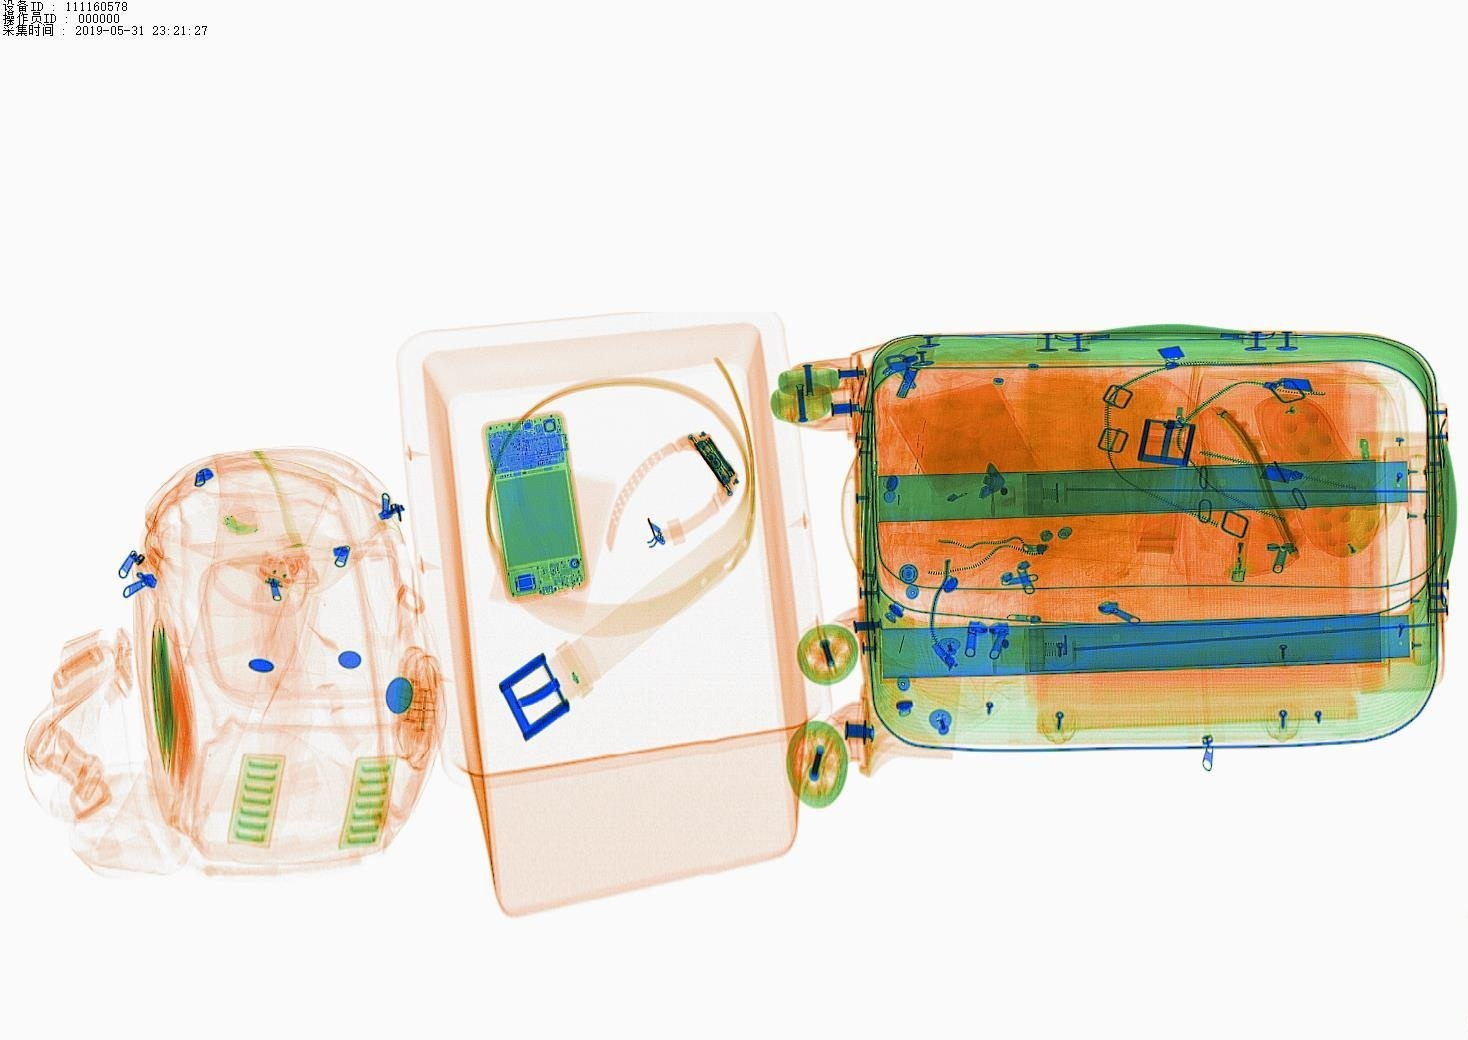NonmetallicFire: (1212, 488, 1263, 595)
